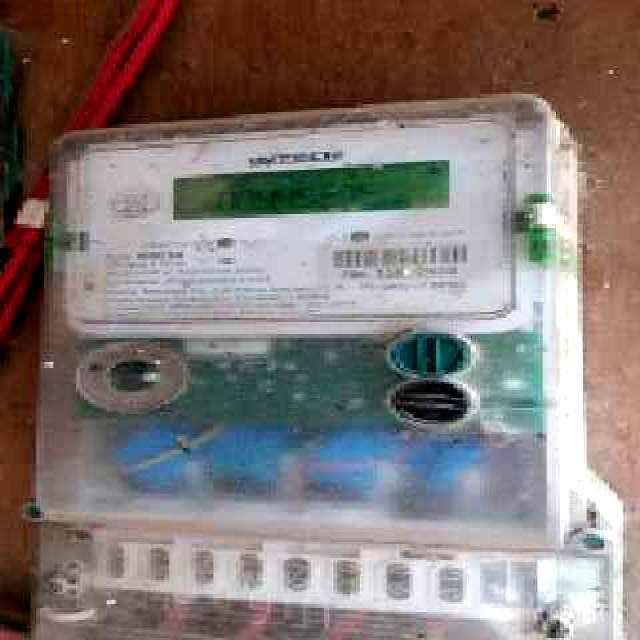LCD: (165, 155, 466, 223)
